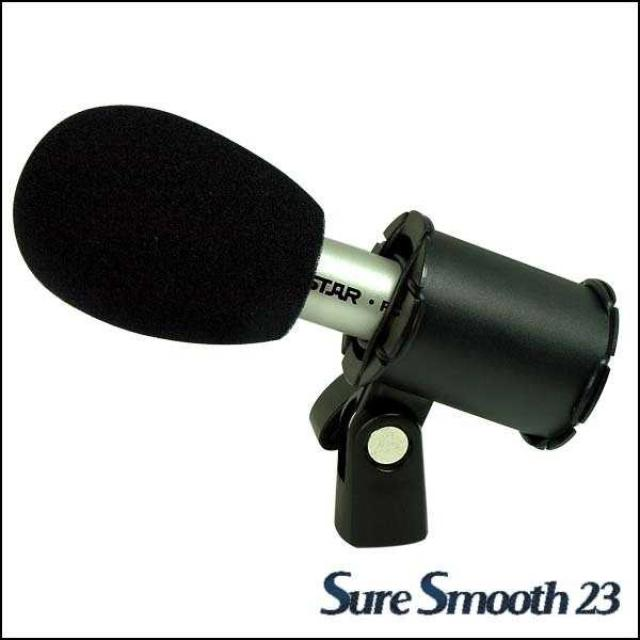microphone: (9, 104, 624, 418)
